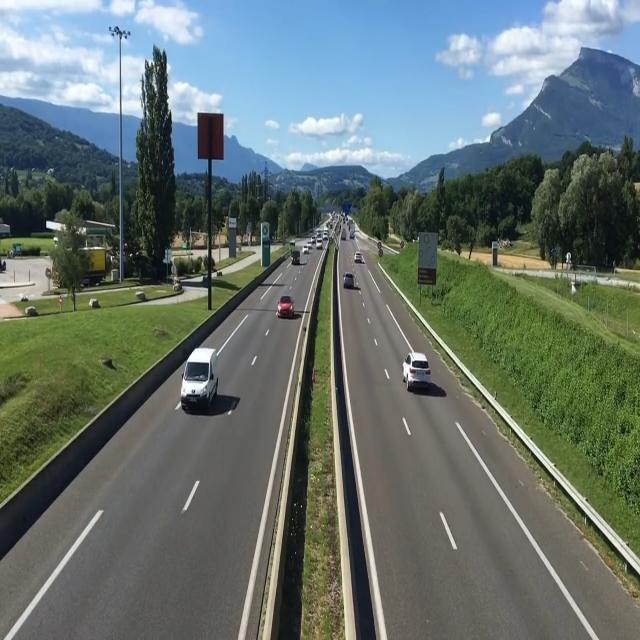car: (179, 346, 221, 414), (402, 351, 434, 398), (276, 288, 296, 321), (342, 260, 359, 295), (291, 248, 302, 269)
